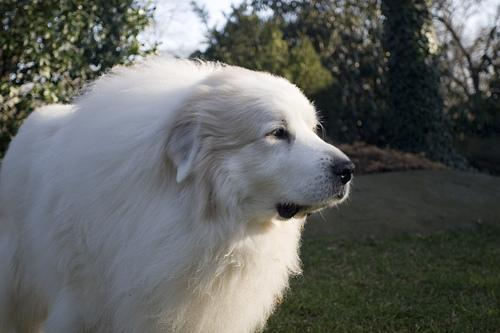Great_Pyrenees: (0, 60, 358, 332)
